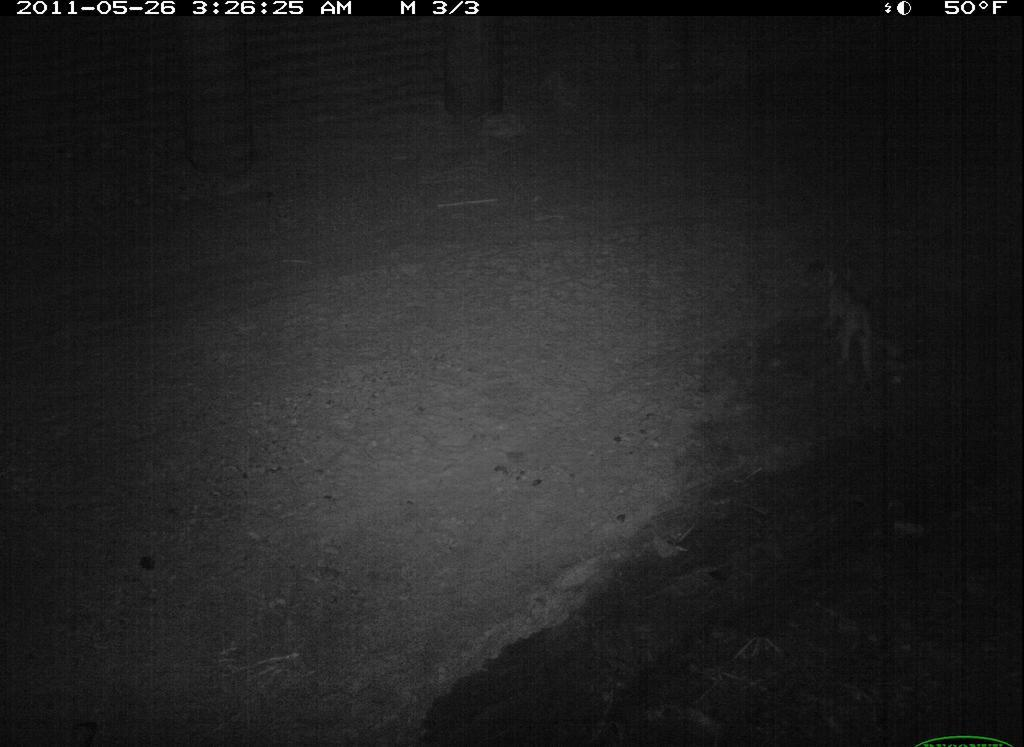bobcat: (805, 262, 904, 385)
